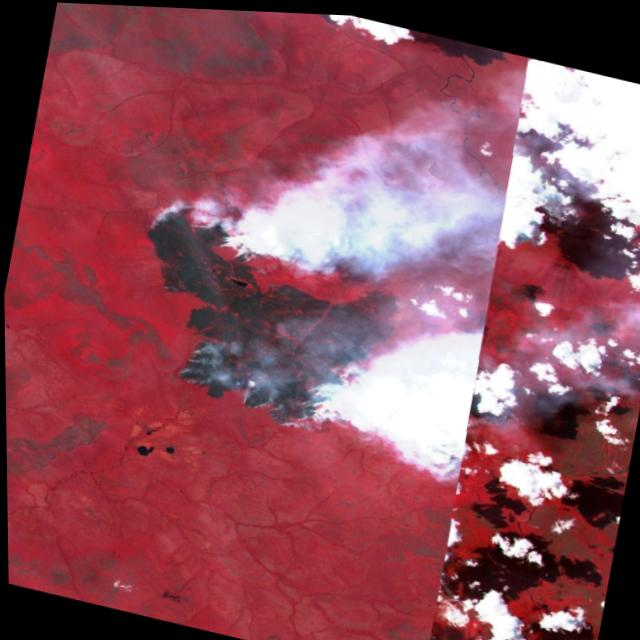fire: (108, 191, 398, 446)
